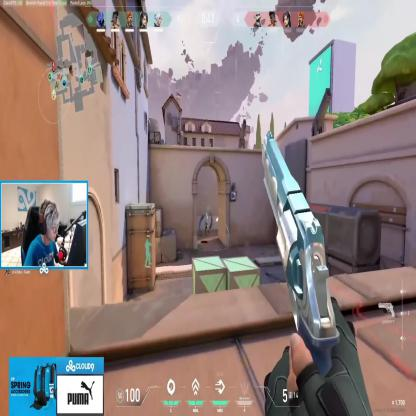enemy: (205, 217, 209, 235)
enemy_head: (206, 218, 208, 222)
